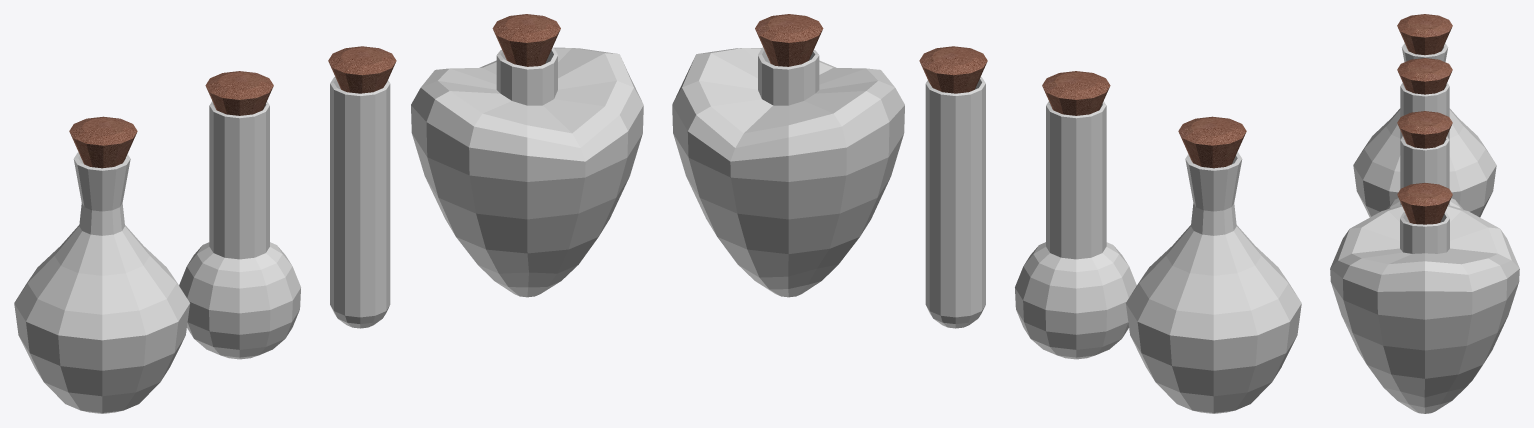
File: Bottles.fbx
3 renders of one model, left to right at view 1: azimuth 30°, elevation 25°; view 2: azimuth 150°, elevation 25°; view 3: azimuth 270°, elevation 25°, orthographic. The views are drawn at different scales.
Visible parts, largest first — view 1: Cube.099, Cube.097, Cube.096, Cube.098, Plane.010, Plane.009, Plane.008, Plane.007; view 2: Cube.099, Cube.097, Cube.096, Cube.098, Plane.010, Plane.009, Plane.008, Plane.007; view 3: Cube.099, Cube.097, Cube.098, Plane.010, Plane.009, Plane.008, Plane.007, Cube.096.
Boxes of the visible parts, bbox=[...] form: Cube.099: bbox=[411, 47, 643, 297]; Cube.097: bbox=[14, 152, 189, 413]; Cube.096: bbox=[179, 101, 300, 359]; Cube.098: bbox=[330, 77, 390, 328]; Plane.010: bbox=[492, 14, 560, 66]; Plane.009: bbox=[69, 116, 137, 168]; Plane.008: bbox=[328, 46, 396, 93]; Plane.007: bbox=[205, 71, 273, 115]; Cube.099: bbox=[672, 47, 904, 297]; Cube.097: bbox=[1126, 152, 1301, 413]; Cube.096: bbox=[1015, 101, 1136, 359]; Cube.098: bbox=[925, 77, 985, 328]; Plane.010: bbox=[755, 14, 823, 66]; Plane.009: bbox=[1178, 116, 1246, 168]; Plane.008: bbox=[919, 46, 987, 93]; Plane.007: bbox=[1042, 71, 1110, 115]; Cube.099: bbox=[1330, 205, 1519, 413]; Cube.097: bbox=[1353, 43, 1496, 217]; Cube.098: bbox=[1400, 136, 1449, 204]; Plane.010: bbox=[1397, 183, 1452, 224]; Plane.009: bbox=[1397, 14, 1452, 55]; Plane.008: bbox=[1397, 111, 1452, 148]; Plane.007: bbox=[1397, 58, 1452, 94]; Cube.096: bbox=[1387, 82, 1462, 209].
Size of the model in its own units: 316 by 147 by 106.
